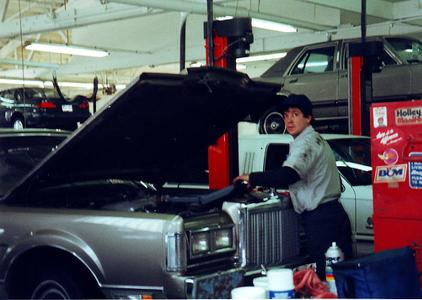person: (232, 92, 358, 282)
